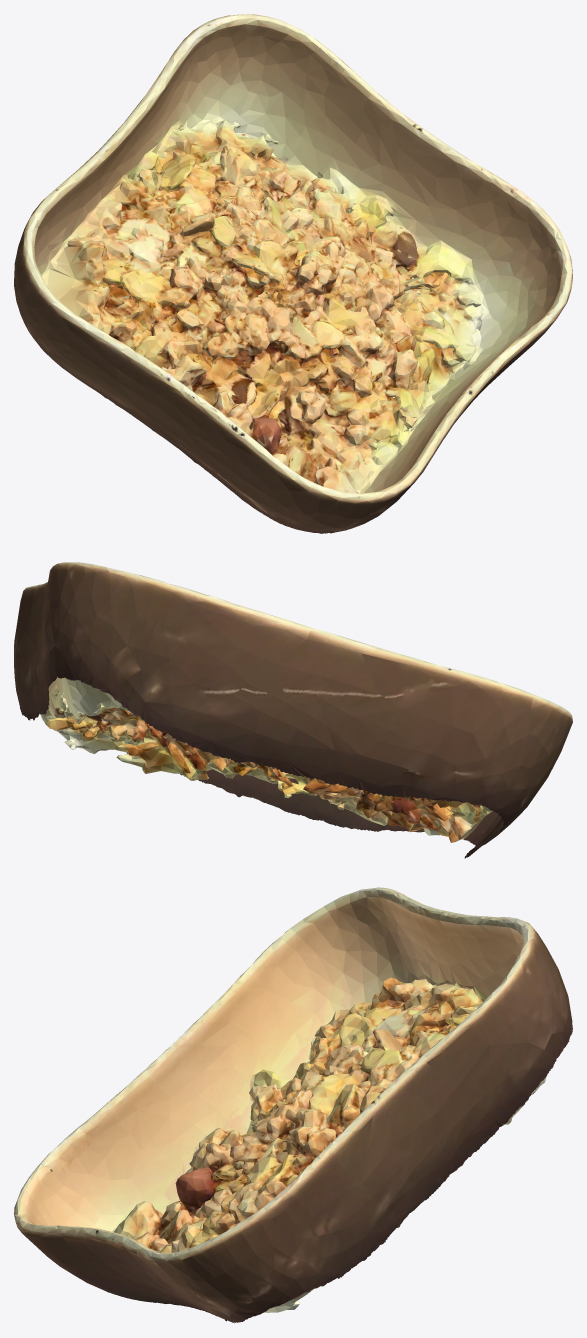
File: Knuspermuesli.fbx
3 views of the same model, one above another, from view 1: azimuth 30°, elevation 25°; view 2: azimuth 150°, elevation 25°; view 3: azimuth 270°, elevation 25° (orthographic). The views are drawn at different scales.
Parts seen in each view (by area): view 1: Knuspermuesli_tex_high; view 2: Knuspermuesli_tex_high; view 3: Knuspermuesli_tex_high.
Part boxes in pixels (x1,y1,x2,y2): Knuspermuesli_tex_high: (14, 14, 572, 533); Knuspermuesli_tex_high: (14, 562, 572, 858); Knuspermuesli_tex_high: (14, 887, 572, 1323).
Size of the model in its own units: 18.62 by 12.65 by 16.48.
